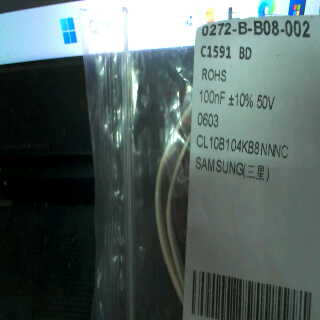100nF: (196, 86, 227, 108)
